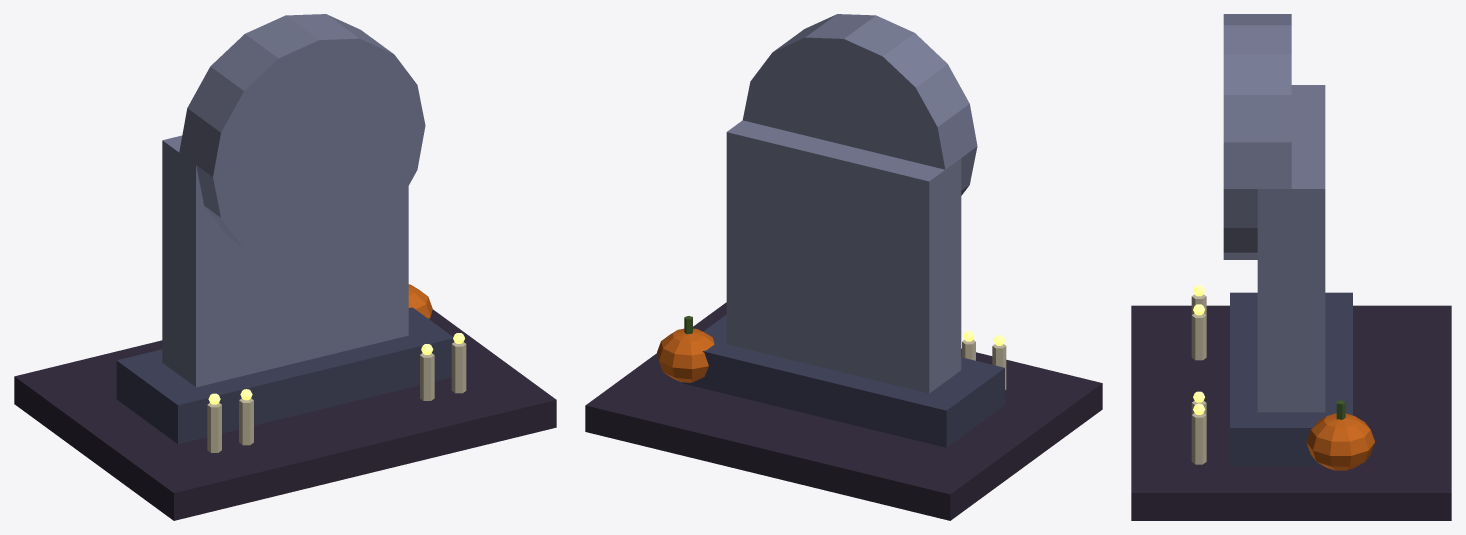
Rendered from generic-tombstone.glb.
3 renders of one model, left to right at view 1: azimuth 30°, elevation 25°; view 2: azimuth 150°, elevation 25°; view 3: azimuth 270°, elevation 25°, orthographic. The views are drawn at different scales.
Parts seen in each view (by area): view 1: cw_paint; view 2: cw_paint; view 3: cw_paint, cw_glow.
Part boxes in pixels (x1,y1,x2,y2): cw_paint: (14,14,556,520); cw_paint: (585,14,1102,520); cw_paint: (1131,14,1451,520); cw_glow: (1193,285,1205,414).
Bounding box in the file's own units: 3.6 × 3.6 × 2.6.
